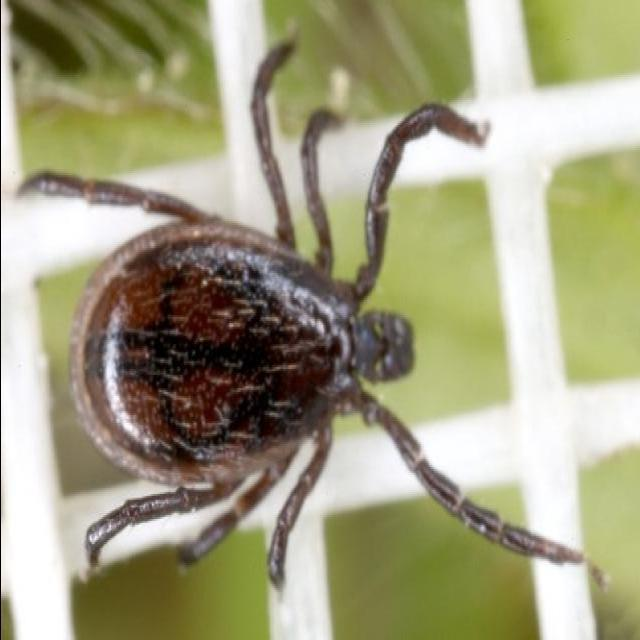Ixodes Ricinus-M: (21, 38, 583, 594)
